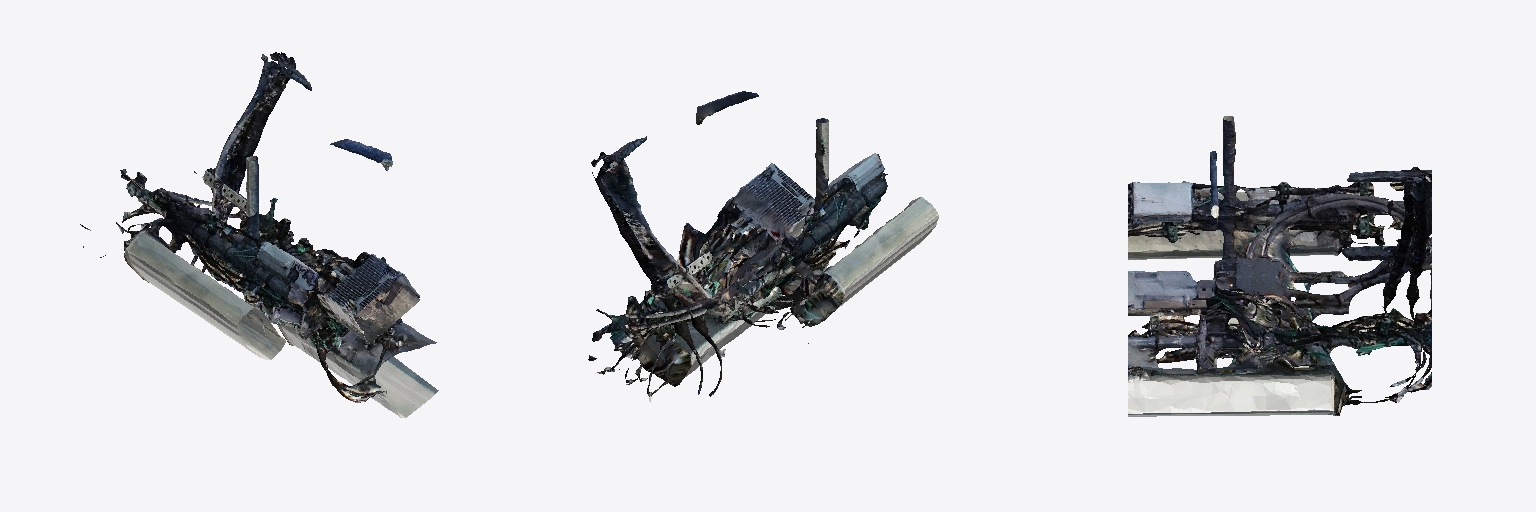
The picture shows the model from 3 angles: view 1: azimuth 30°, elevation 25°; view 2: azimuth 150°, elevation 25°; view 3: azimuth 270°, elevation 25°; orthographic projection.
Size of the model in its own units: 1.15 by 1.31 by 1.42.
Materials: 2 (1 with a texture image).